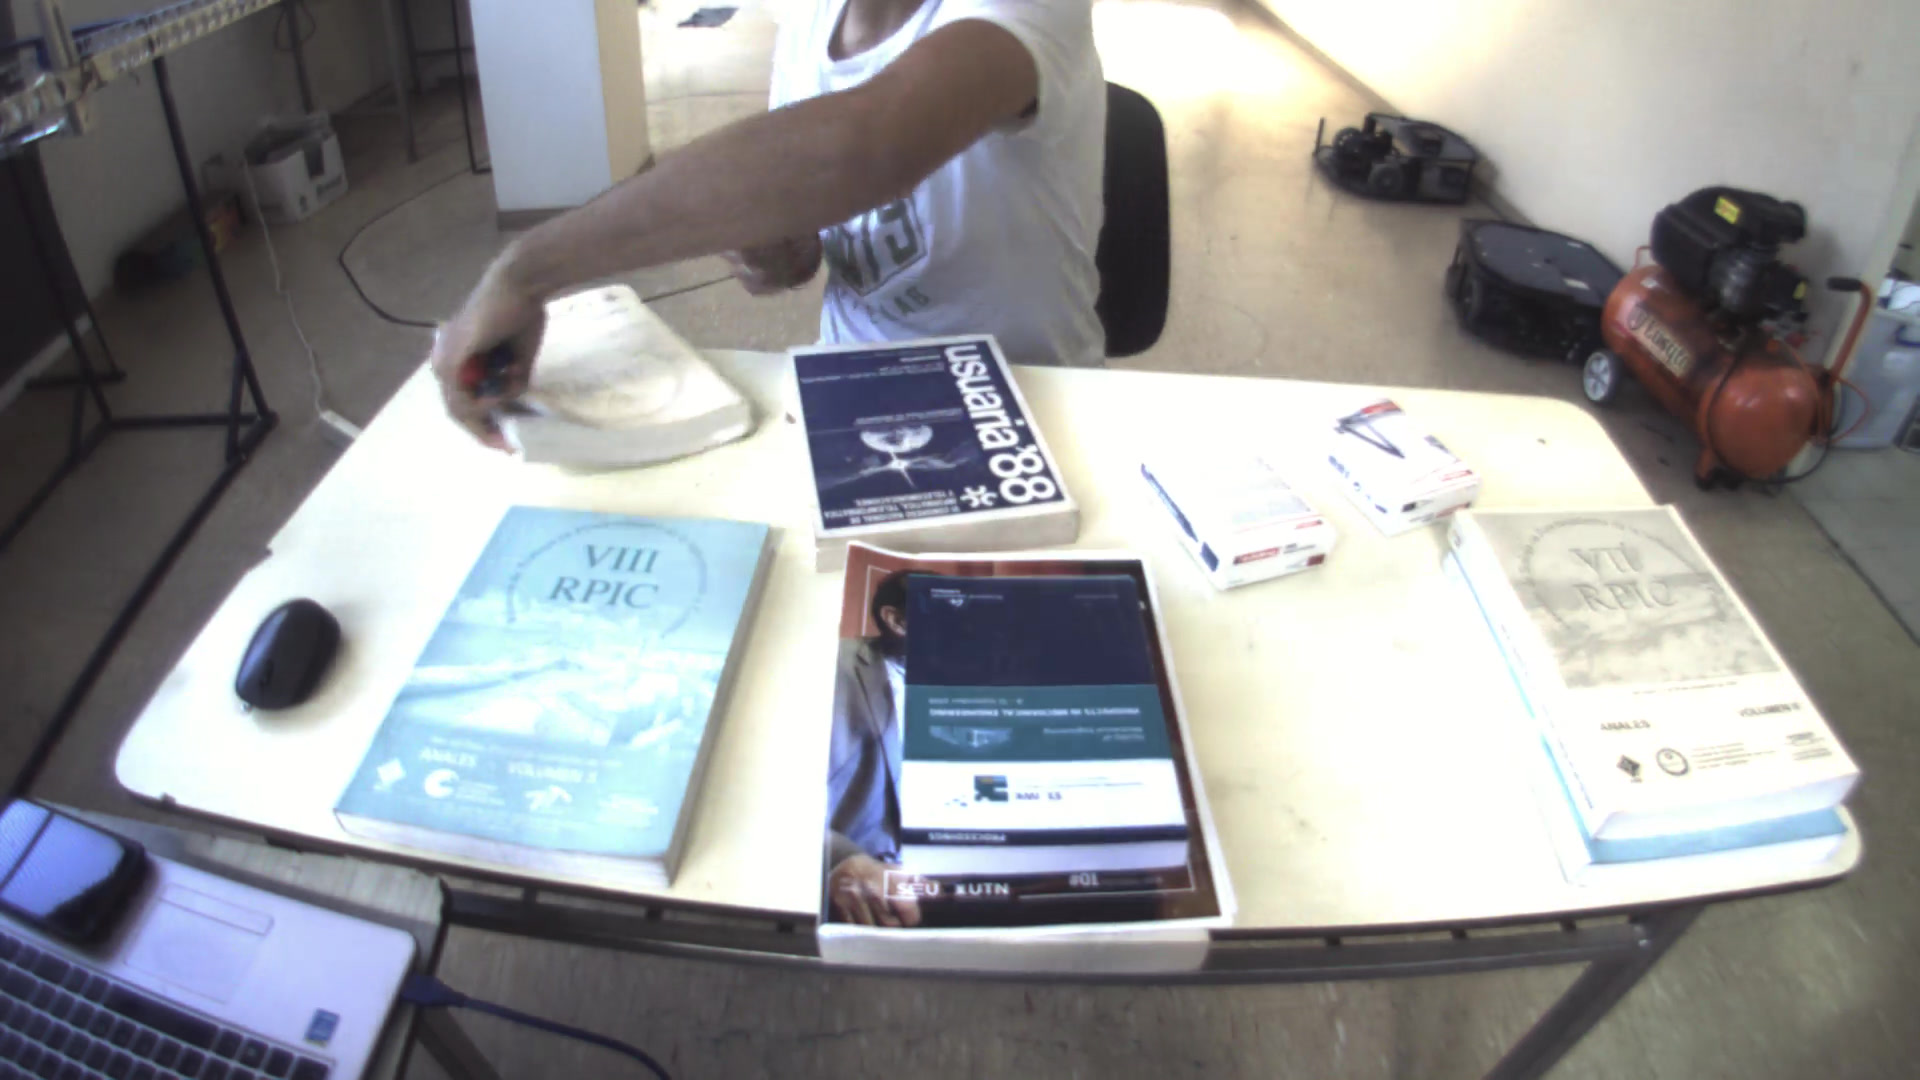hand: (423, 268, 553, 458)
